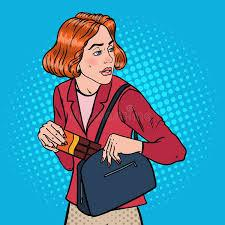shoplifting: (15, 93, 212, 225)
